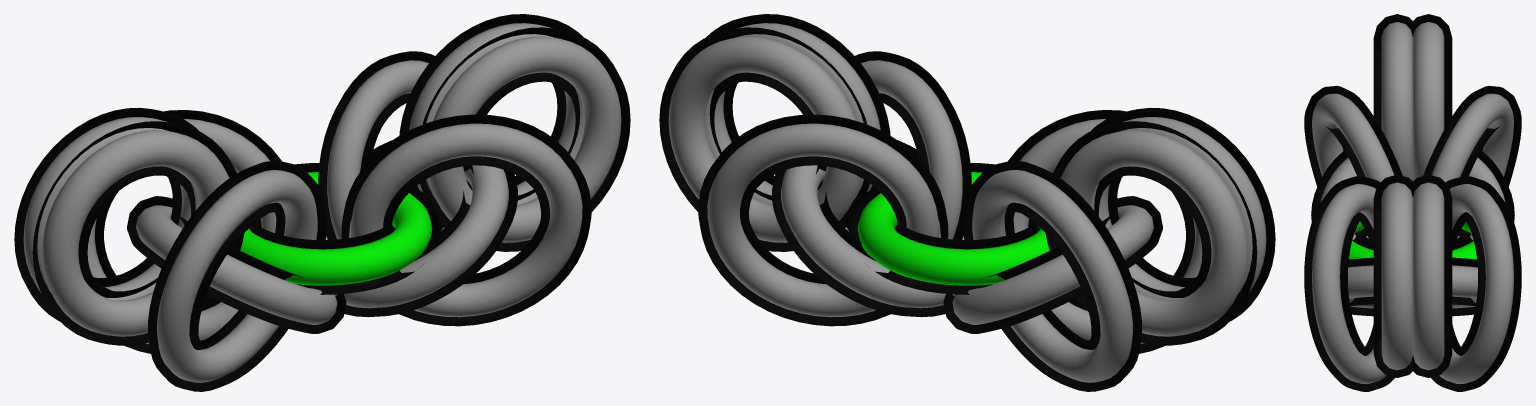
File: b_3_unit_tutorial_07.glb
The picture shows the model from 3 angles, left to right: view 1: azimuth 30°, elevation 25°; view 2: azimuth 150°, elevation 25°; view 3: azimuth 270°, elevation 25°; orthographic projection. The views are drawn at different scales.
Visible parts, largest first — view 1: Torus.015, Torus.017, Torus.011, Torus.009, Torus.007, Torus, Torus.001, Torus.012, Torus.016, Torus.010, Torus.018; view 2: Torus.016, Torus.018, Torus.012, Torus.010, Torus.007, Torus, Torus.001, Torus.011, Torus.015, Torus.009, Torus.017; view 3: Torus.015, Torus.016, Torus.009, Torus.010, Torus.017, Torus.018, Torus.011, Torus.012, Torus, Torus.001, Torus.007.
Part boxes in pixels (x1,y1,x2,y2): Torus.015: [341, 114, 591, 326]; Torus.017: [148, 160, 326, 391]; Torus.011: [32, 121, 244, 345]; Torus.009: [420, 27, 630, 251]; Torus.007: [240, 163, 441, 294]; Torus: [325, 140, 517, 317]; Torus.001: [127, 196, 346, 333]; Torus.012: [14, 107, 199, 321]; Torus.016: [318, 51, 487, 239]; Torus.010: [399, 14, 584, 227]; Torus.018: [87, 110, 281, 353]; Torus.016: [698, 114, 948, 326]; Torus.018: [963, 160, 1141, 391]; Torus.012: [1045, 121, 1257, 345]; Torus.010: [659, 27, 869, 251]; Torus.007: [848, 163, 1049, 294]; Torus: [772, 140, 964, 317]; Torus.001: [943, 196, 1162, 333]; Torus.011: [1090, 107, 1275, 321]; Torus.015: [802, 51, 971, 239]; Torus.009: [705, 14, 890, 227]; Torus.017: [1008, 110, 1202, 353]; Torus.015: [1304, 176, 1394, 391]; Torus.016: [1431, 176, 1521, 391]; Torus.009: [1373, 174, 1417, 377]; Torus.010: [1408, 174, 1452, 377]; Torus.017: [1304, 86, 1402, 238]; Torus.018: [1423, 86, 1521, 238]; Torus.011: [1373, 14, 1417, 180]; Torus.012: [1408, 14, 1452, 180]; Torus: [1348, 257, 1477, 316]; Torus.001: [1311, 150, 1514, 240]; Torus.007: [1349, 221, 1476, 259].
Size of the model in its own units: 7.45 by 3.21 by 2.78.
